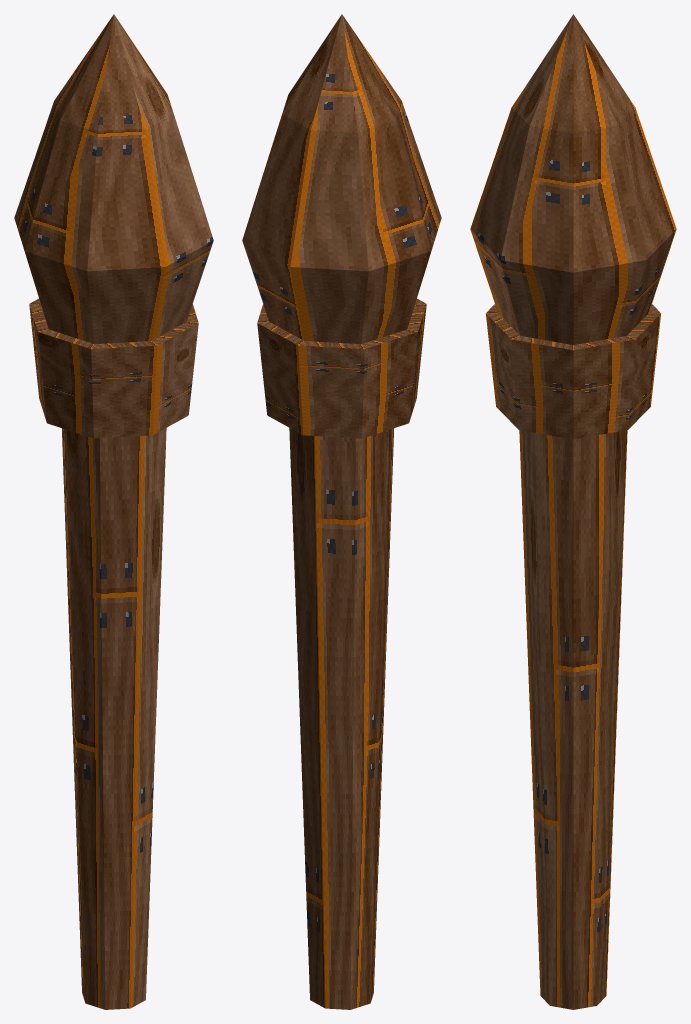
Rendered from tocha.glb.
3 renders of one model, left to right at view 1: azimuth 30°, elevation 25°; view 2: azimuth 150°, elevation 25°; view 3: azimuth 270°, elevation 25°, orthographic.
Visible parts, largest first — view 1: tocha; view 2: tocha; view 3: tocha.
Boxes of the visible parts, x1,y1,x2,y2 form: tocha: [14, 14, 213, 1009]; tocha: [242, 14, 441, 1009]; tocha: [470, 14, 676, 1009].
Size of the model in its own units: 0.2 by 1.05 by 0.2.
1 material, 1 textured.
